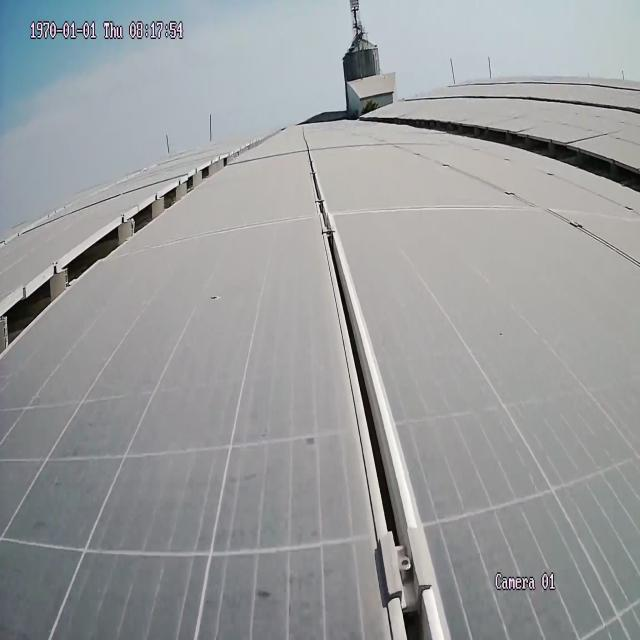interior panel: (303, 137, 450, 634)
outher panel: (0, 133, 268, 359), (383, 114, 638, 196)
